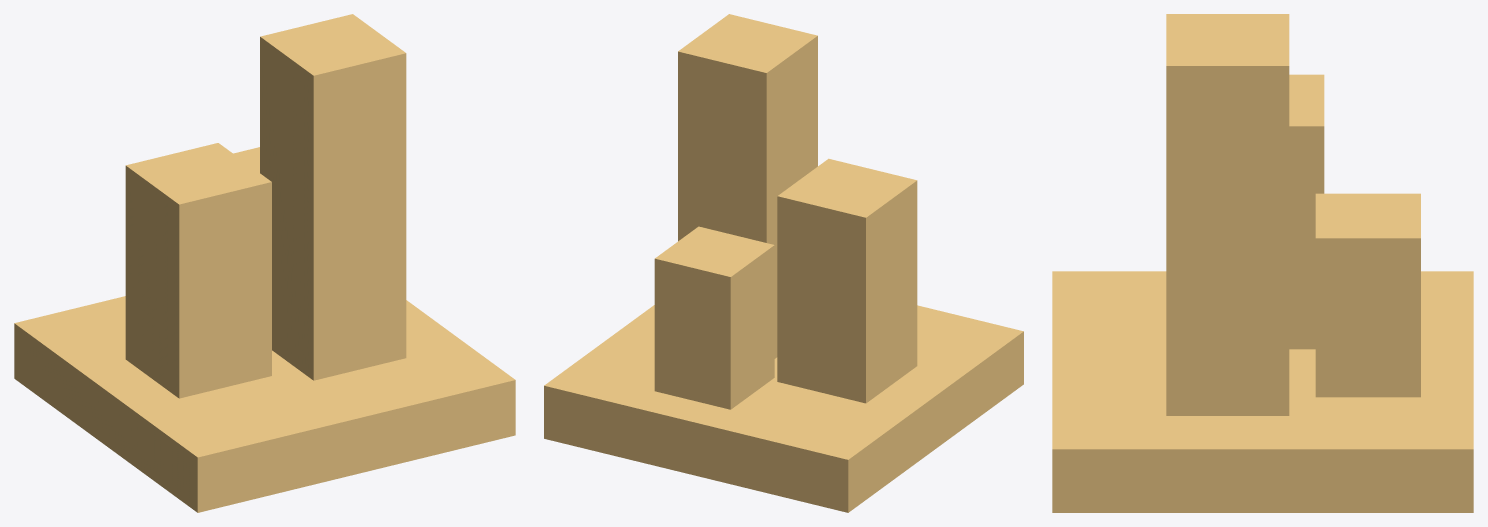
File: resource.gltf
3 renders of one model, left to right at view 1: azimuth 30°, elevation 25°; view 2: azimuth 150°, elevation 25°; view 3: azimuth 270°, elevation 25°, orthographic. The views are drawn at different scales.
Parts seen in each view (by area): view 1: resource; view 2: resource; view 3: resource.
Part boxes in pixels (bbox=[...]): resource: bbox=[14, 14, 515, 512]; resource: bbox=[544, 14, 1023, 512]; resource: bbox=[1052, 14, 1473, 512].
Size of the model in its own units: 1.2 by 1.3 by 1.2.
